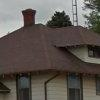Chimney: (19, 5, 42, 33)
